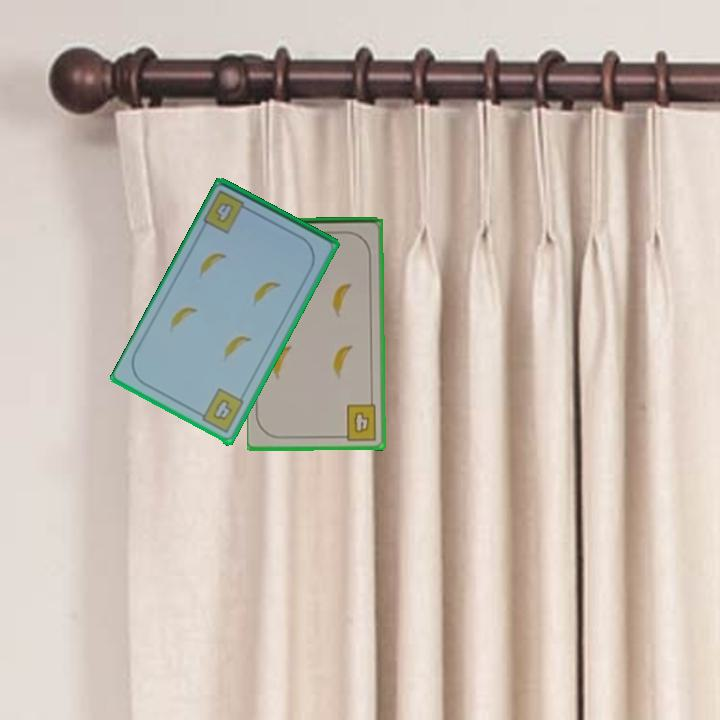4b: (193, 385, 247, 437), (200, 187, 255, 237), (337, 401, 379, 443)
